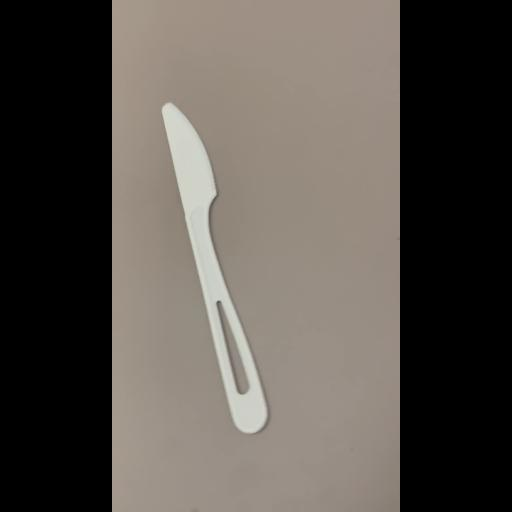utensil: (152, 94, 292, 436)
